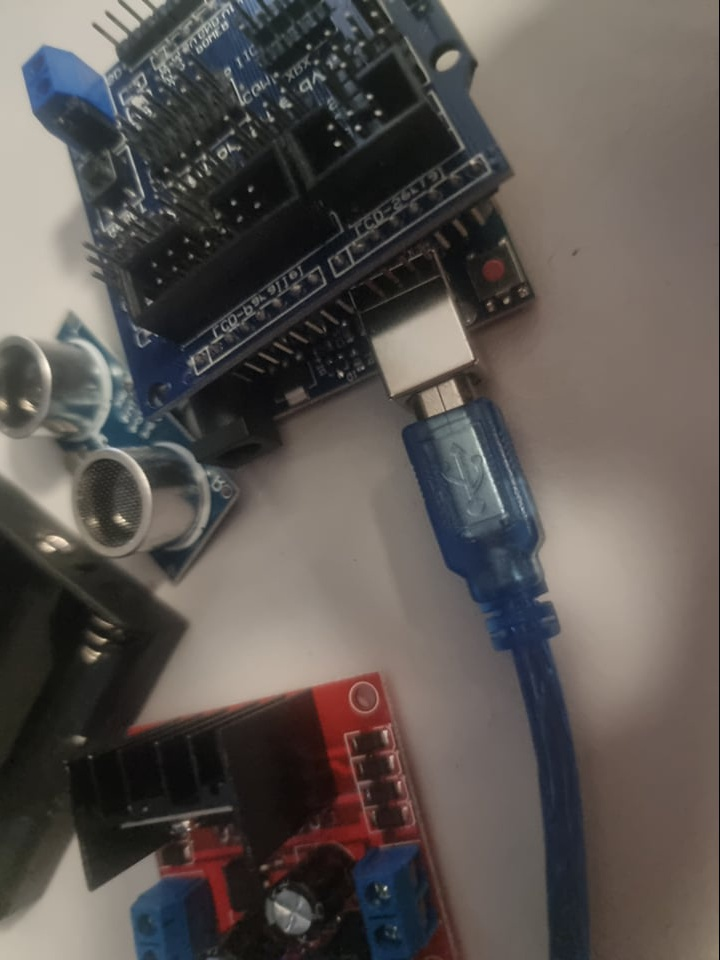5V EXPANSION: (25, 1, 514, 422)
MOTOR: (64, 665, 456, 960)
SENSOR: (4, 312, 243, 584)
UNO R3: (196, 202, 547, 464)
